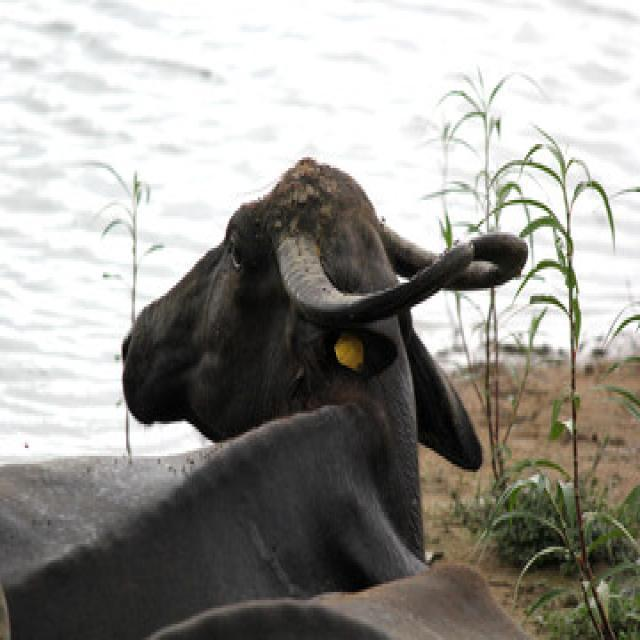Buffalo: (0, 155, 537, 627)
